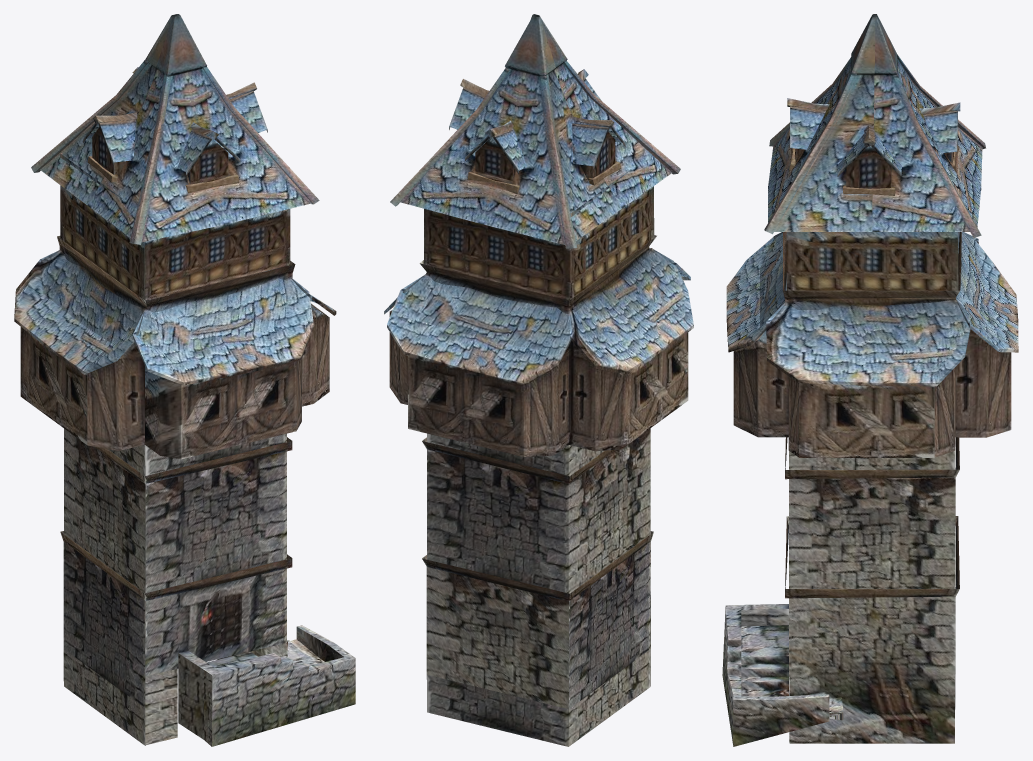
3 views of the same model, side by side, from view 1: azimuth 30°, elevation 25°; view 2: azimuth 150°, elevation 25°; view 3: azimuth 270°, elevation 25° (orthographic).
Visible parts, largest first — view 1: t5.002; view 2: t5.002; view 3: t5.002.
Boxes of the visible parts, x1,y1,x2,y2 form: t5.002: [14, 14, 355, 746]; t5.002: [384, 14, 693, 746]; t5.002: [722, 14, 1018, 746].
Size of the model in its own units: 2.81 by 7.36 by 2.84.
Materials: 1 (1 with a texture image).
